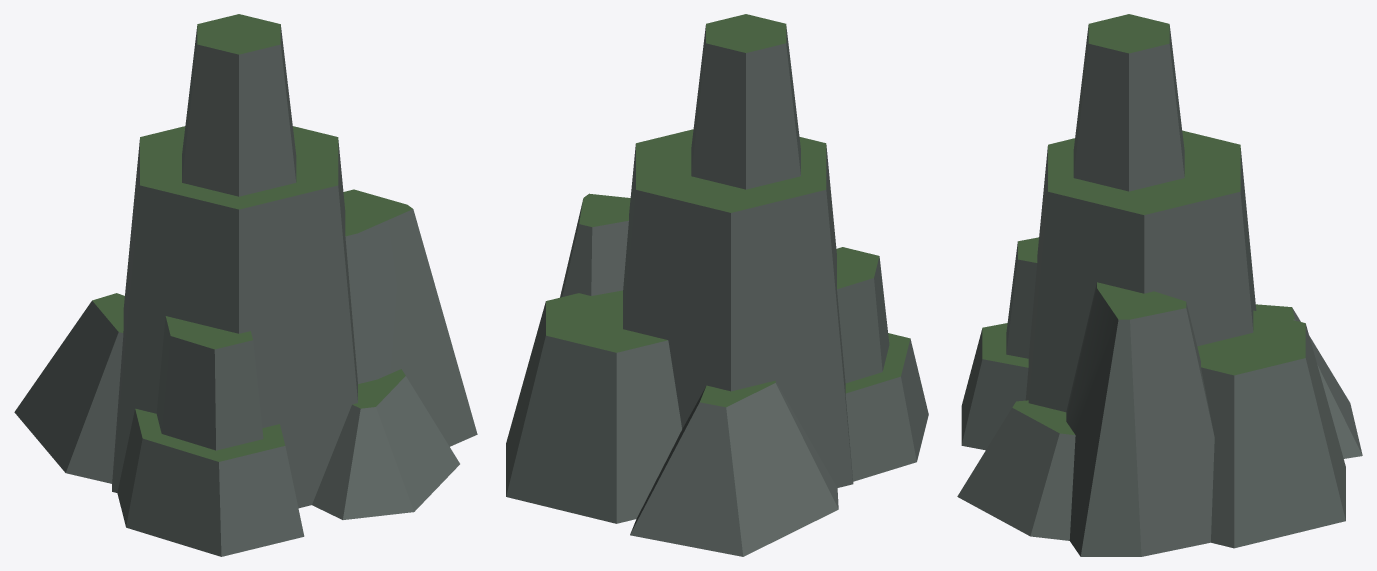
The model's file is rn_rock.glb.
3 views of the same model, side by side, from view 1: azimuth 30°, elevation 25°; view 2: azimuth 150°, elevation 25°; view 3: azimuth 270°, elevation 25° (orthographic). The views are drawn at different scales.
Parts seen in each view (by area): view 1: rn_rock; view 2: rn_rock; view 3: rn_rock.
Part boxes in pixels (bbox=[...]): rn_rock: bbox=[14, 14, 477, 556]; rn_rock: bbox=[506, 14, 928, 556]; rn_rock: bbox=[957, 14, 1362, 556].
Size of the model in its own units: 1.56 by 1.8 by 1.57.
